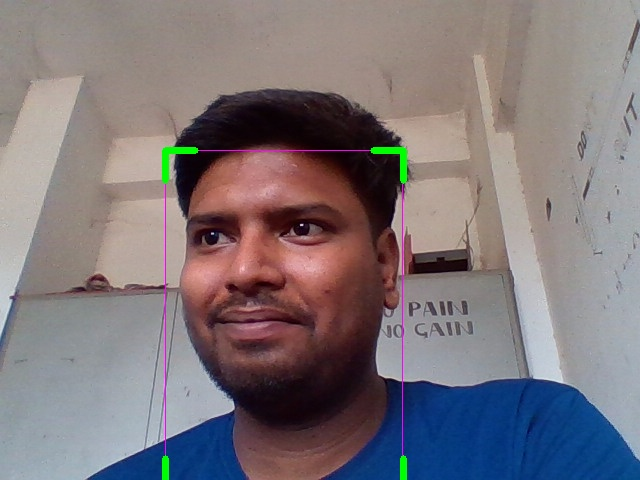real: (165, 150, 403, 480)
